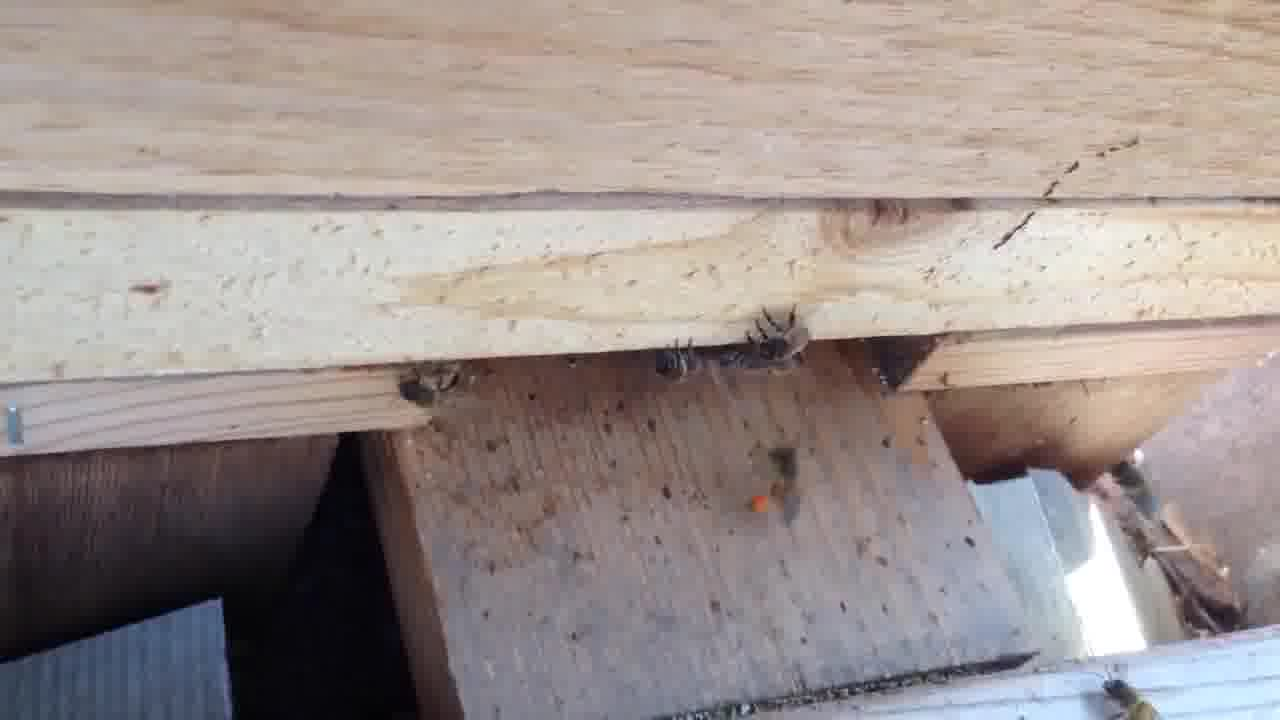pollen: (753, 439, 808, 529)
